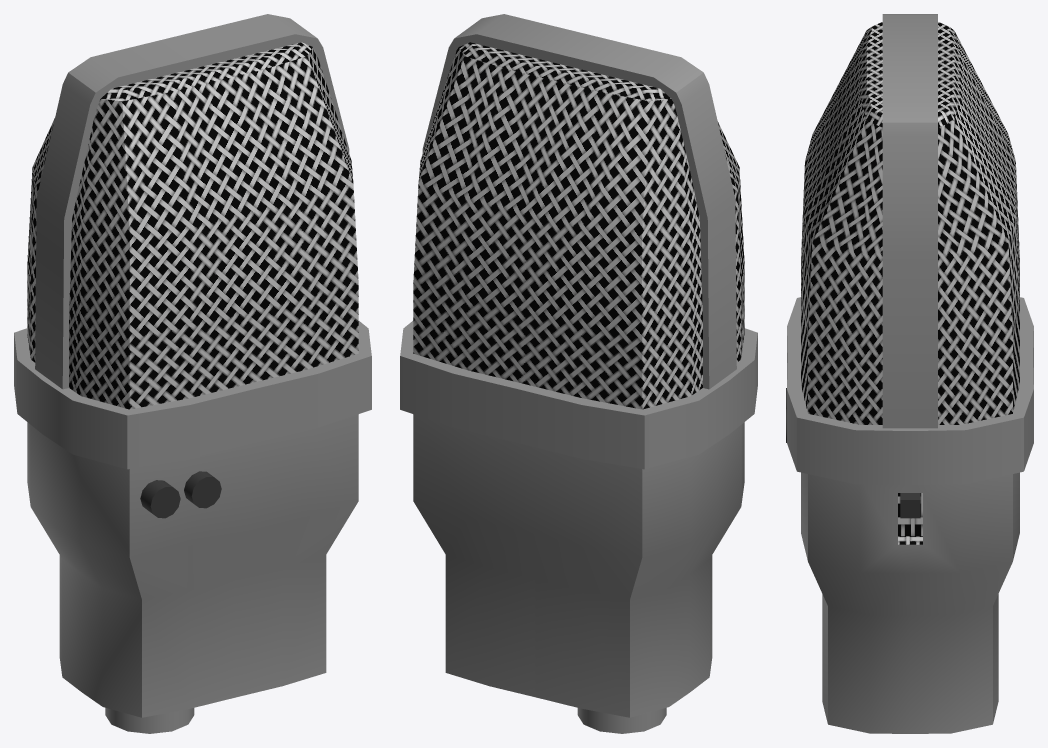
The model's file is microphone.fbx.
The picture shows the model from 3 angles, left to right: view 1: azimuth 30°, elevation 25°; view 2: azimuth 150°, elevation 25°; view 3: azimuth 270°, elevation 25°; orthographic projection.
Parts seen in each view (by area): view 1: Cylinder, Cube, Cylinder.001, Cylinder.002, Cylinder.003; view 2: Cylinder, Cube, Cylinder.001; view 3: Cylinder, Cube, Cube.002.
Boxes of the visible parts, left/top/right/bottom form: Cylinder: left=14, top=42, right=371, bottom=717; Cube: left=35, top=14, right=349, bottom=389; Cylinder.001: left=105, top=707, right=194, bottom=733; Cylinder.002: left=140, top=480, right=180, bottom=518; Cylinder.003: left=184, top=471, right=221, bottom=508; Cylinder: left=400, top=42, right=757, bottom=717; Cube: left=422, top=14, right=736, bottom=389; Cylinder.001: left=577, top=707, right=666, bottom=733; Cylinder: left=787, top=22, right=1033, bottom=733; Cube: left=882, top=14, right=937, bottom=428; Cube.002: left=900, top=493, right=920, bottom=518.
Size of the model in its own units: 11.31 by 23.74 by 8.07.
